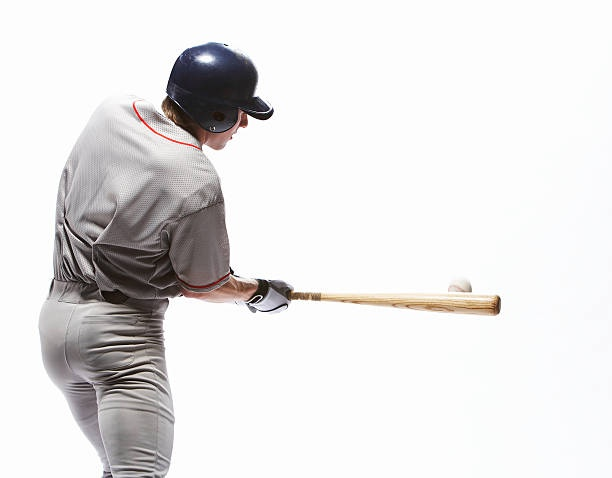bita: (269, 289, 498, 317)
